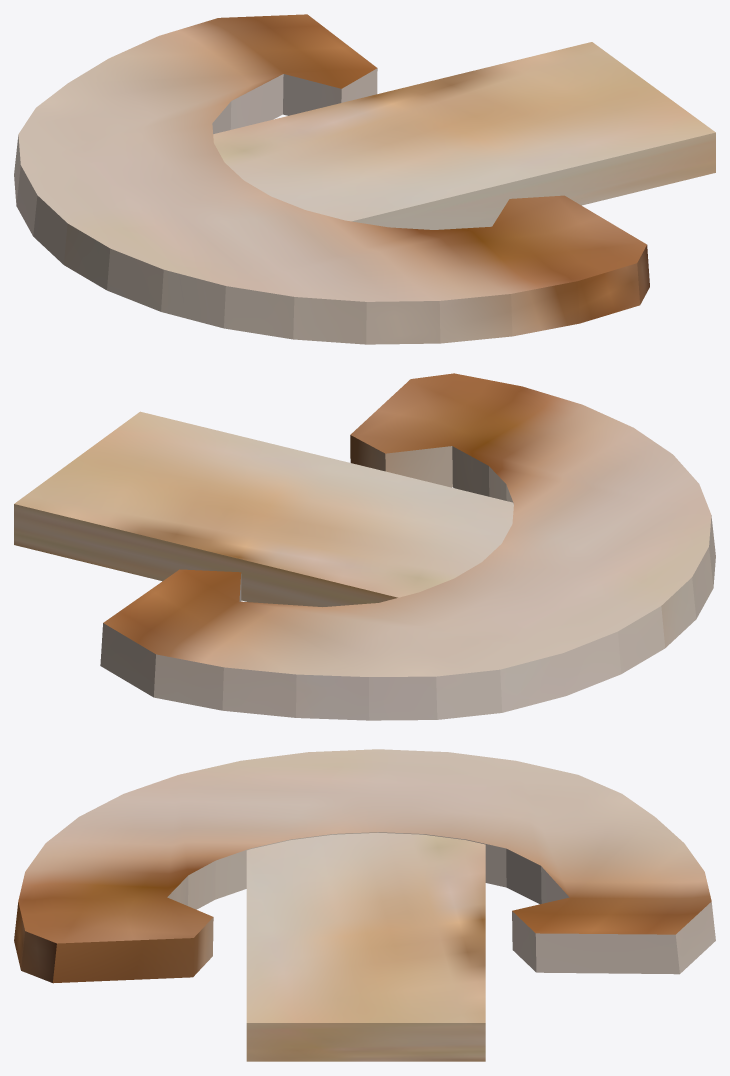
File: champignon.glb
3 renders of one model, top to bottom at view 1: azimuth 30°, elevation 25°; view 2: azimuth 150°, elevation 25°; view 3: azimuth 270°, elevation 25°, orthographic. The views are drawn at different scales.
Visible parts, largest first — view 1: Sphere, Cube; view 2: Sphere, Cube; view 3: Sphere, Cube.
Boxes of the visible parts, x1,y1,x2,y2 form: Sphere: (14,14,649,344); Cube: (213,42,715,229); Sphere: (100,373,715,720); Cube: (14,411,513,606); Sphere: (14,749,715,983); Cube: (246,832,485,1061).
Bounding box in the file's own units: 1.78 × 0.1194 × 1.92.
2 materials, 2 textured.
